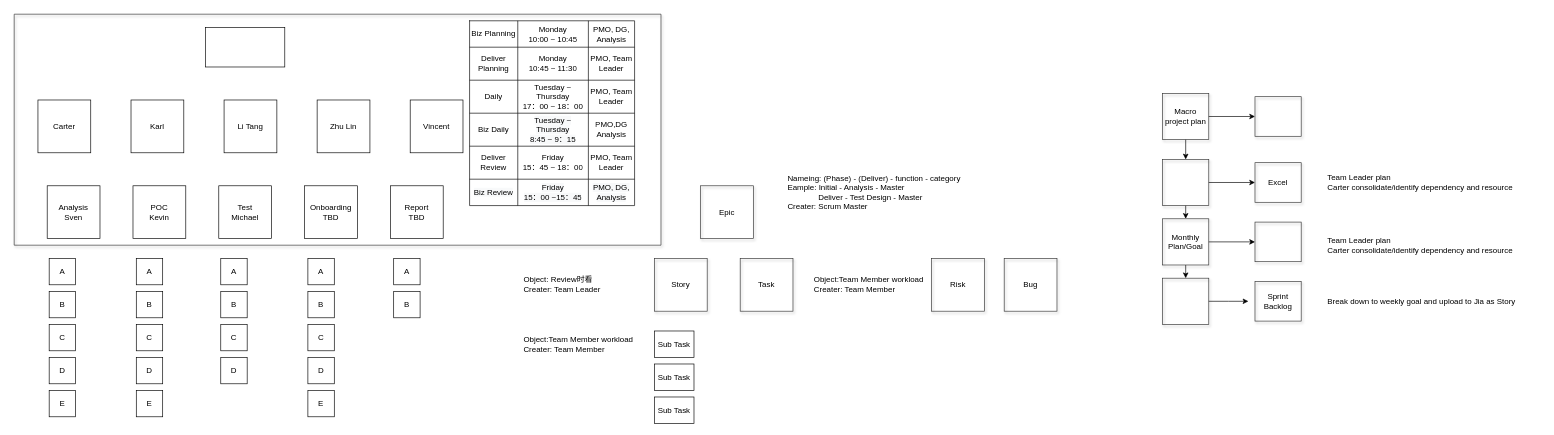
The diagram is 1554 pixels wide and 435 high, and some of its shapes have lost their labels. Each missing label, with the centre of its shape:
"Backlog/ Excel" goes at [1278,242].
"Confluence/ Excel" goes at [1278,117].
"Joey" goes at [245,47].
"Quarterly Plan/Goal" goes at [1186,183].
"Weekly Plan/Goal" goes at [1186,302].
